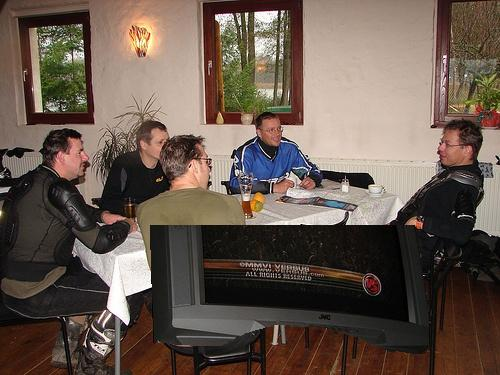tampered: (151, 226, 429, 354)
